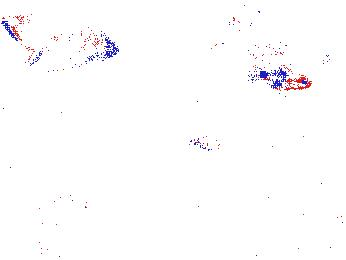X-ray fish: (57, 21, 119, 67)
glassfish: (186, 130, 294, 155)
red belly glassfish: (261, 70, 307, 88), (227, 9, 257, 33)
redtail glassfish: (24, 35, 105, 70), (205, 33, 295, 59), (1, 15, 22, 43)
